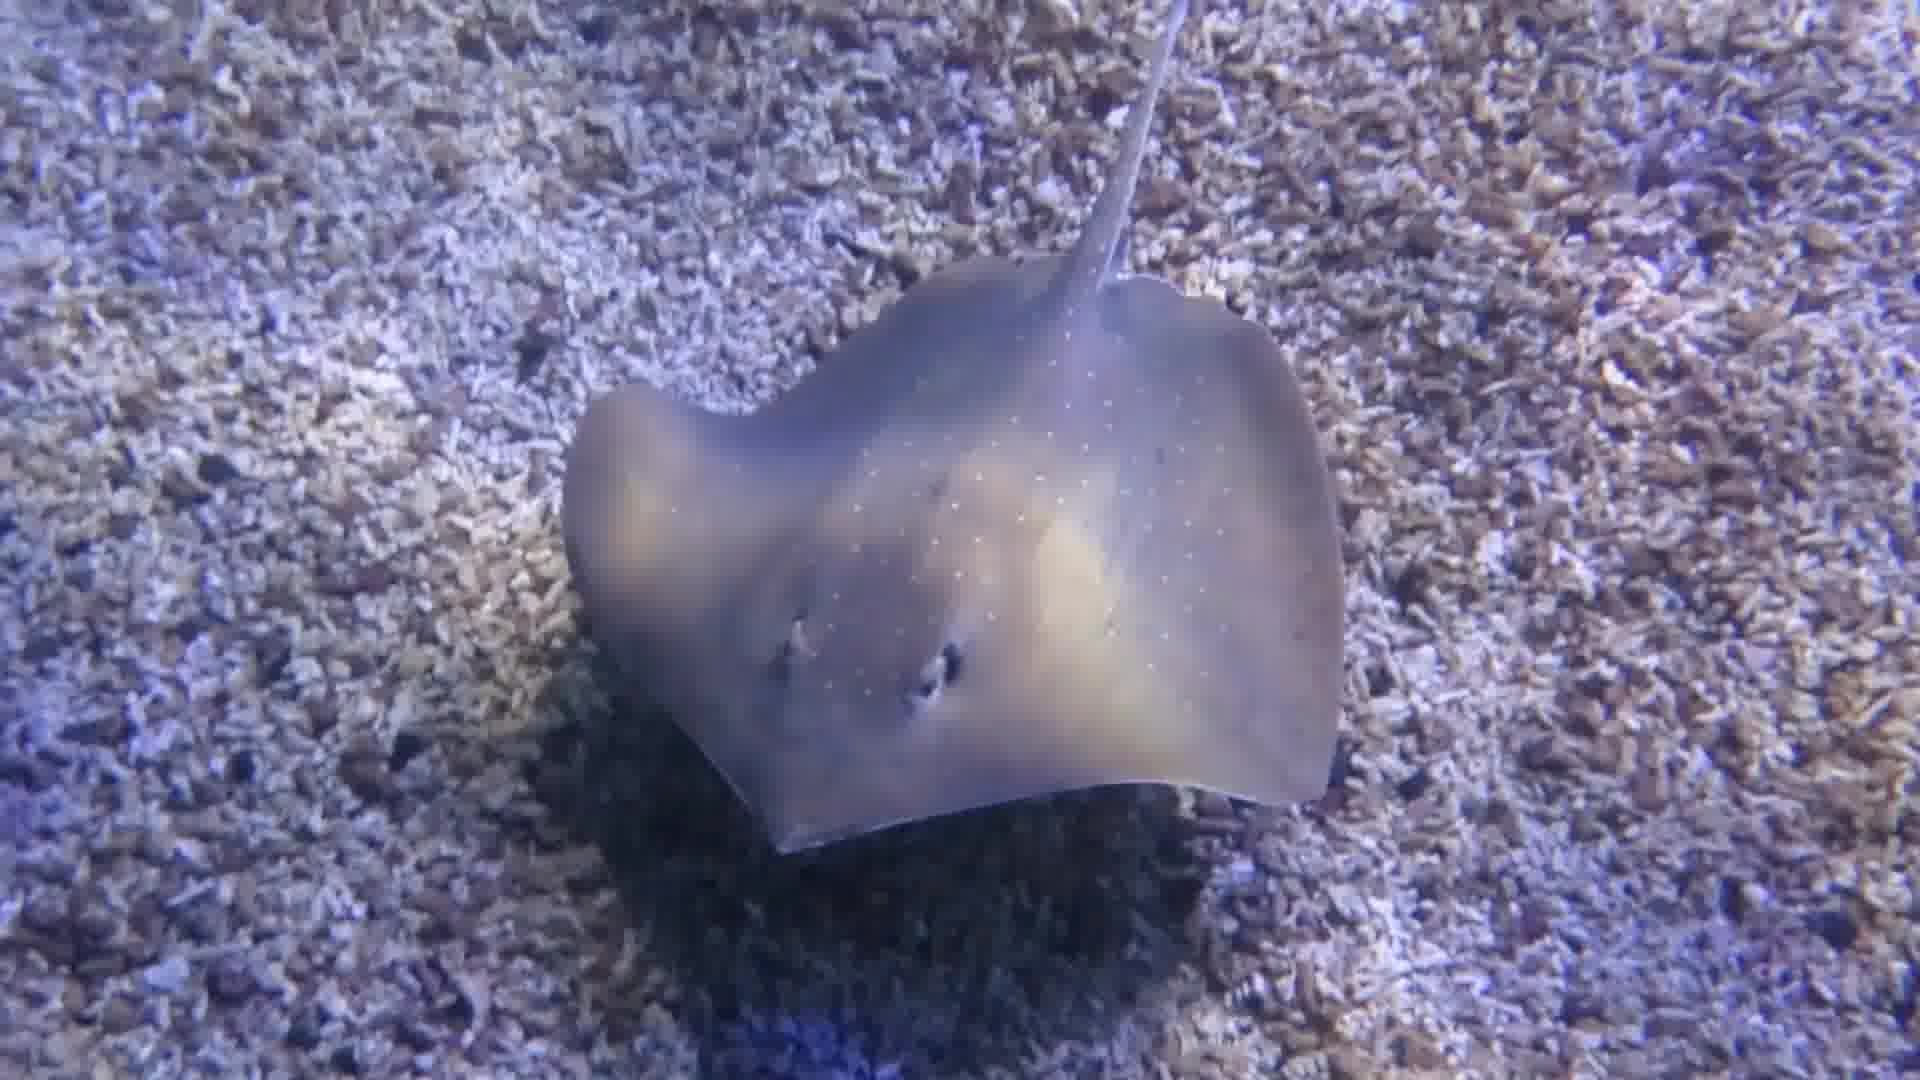Himantura gerrardi: (549, 1, 1436, 870)
